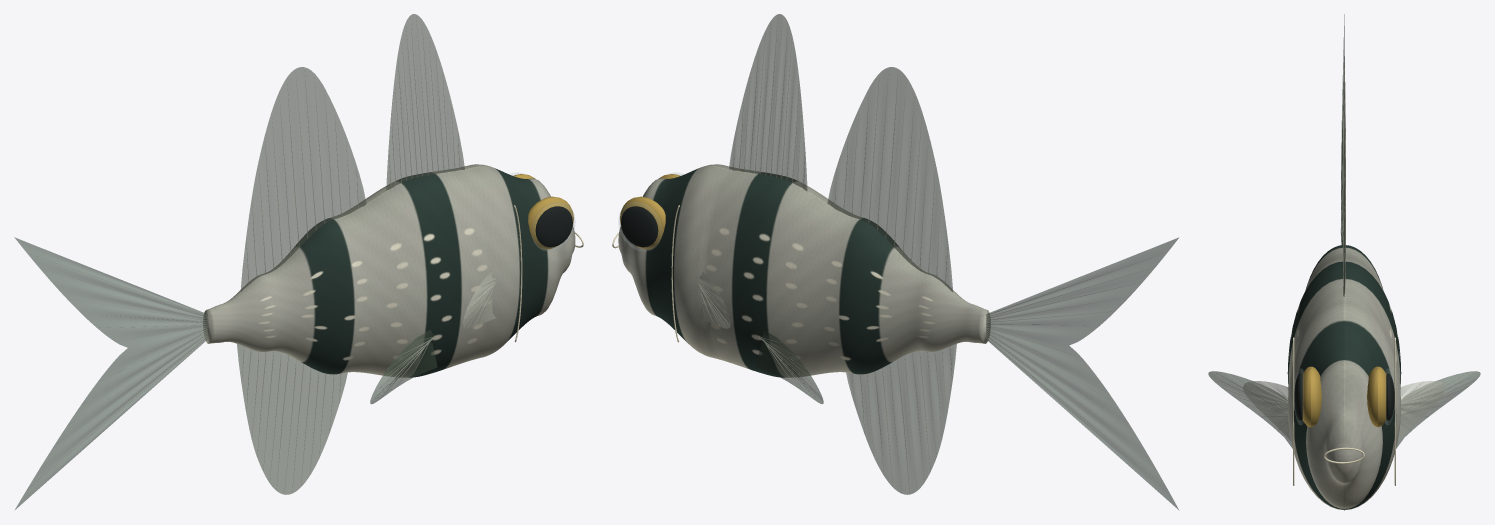
Rendered from banggai-desktop.glb.
3 views of the same model, side by side, from view 1: azimuth 30°, elevation 25°; view 2: azimuth 150°, elevation 25°; view 3: azimuth 270°, elevation 25° (orthographic). The views are drawn at different scales.
Parts seen in each view (by area): view 1: skin, dorsal, tail, anal, dorsal-ray, pelvic-left, eye-pupil--1, pectoral-left, eye-iris--1; view 2: skin, dorsal, tail, anal, dorsal-ray, pelvic-left, eye-pupil--1, pectoral-left, eye-iris--1; view 3: skin, pelvic-left, pectoral-left, eye-iris--1, dorsal-ray, operculum, eye-pupil--1, dorsal, tail.
Part boxes in pixels (box(x1,y1,x2,y2)): skin: box(203, 164, 575, 377); dorsal: box(240, 14, 464, 291); tail: box(14, 237, 207, 509); anal: box(237, 344, 347, 494); dorsal-ray: box(28, 16, 495, 492); pelvic-left: box(370, 330, 437, 404); eye-pupil--1: box(535, 206, 572, 247); pectoral-left: box(463, 272, 495, 328); eye-iris--1: box(513, 174, 573, 249); skin: box(618, 164, 990, 377); dorsal: box(729, 14, 953, 291); tail: box(986, 237, 1178, 509); anal: box(846, 344, 956, 494); dorsal-ray: box(697, 15, 1166, 493); pelvic-left: box(756, 330, 823, 403); eye-pupil--1: box(621, 206, 658, 247); pectoral-left: box(697, 272, 730, 328); eye-iris--1: box(619, 174, 680, 249); skin: box(1287, 245, 1401, 510); pelvic-left: box(1208, 371, 1480, 448); pectoral-left: box(1243, 381, 1445, 440); eye-iris--1: box(1302, 366, 1386, 427); dorsal-ray: box(1210, 58, 1475, 430); operculum: box(1293, 337, 1395, 485); eye-pupil--1: box(1294, 373, 1394, 420); dorsal: box(1343, 55, 1345, 296); tail: box(1341, 14, 1345, 245).
Bounding box in the file's own units: 0.5912 × 0.4539 × 0.2308.
Materials: 11 (1 with a texture image).
